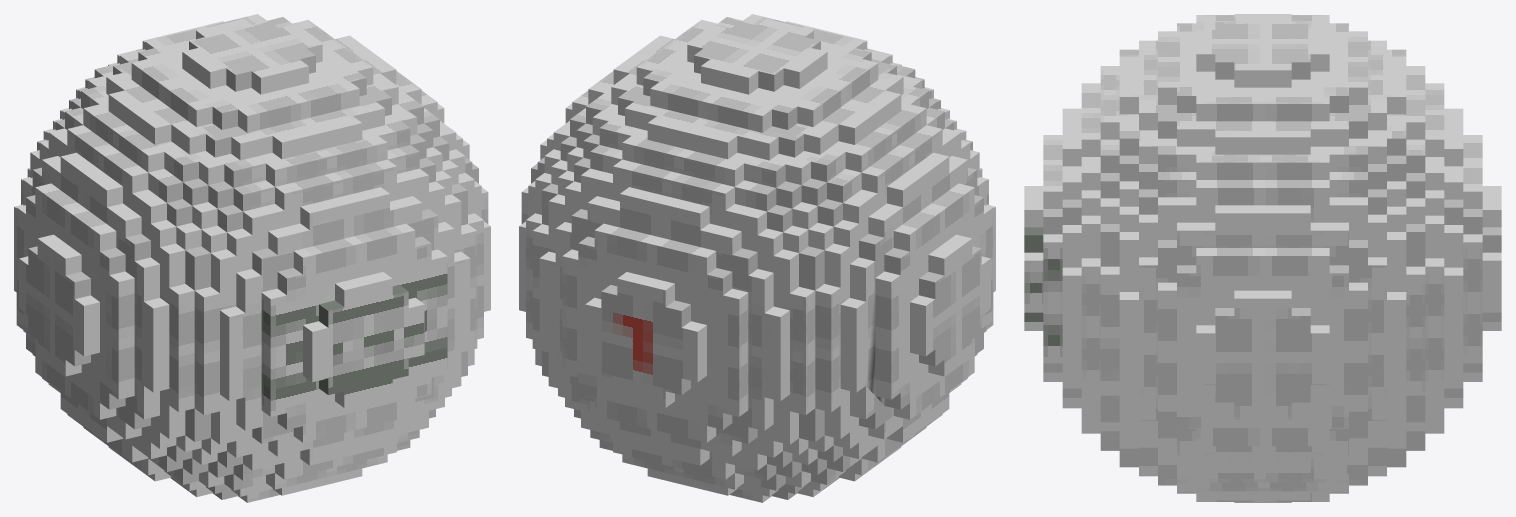
Rendered from golf.glb.
3 views of the same model, side by side, from view 1: azimuth 30°, elevation 25°; view 2: azimuth 150°, elevation 25°; view 3: azimuth 270°, elevation 25° (orthographic). The views are drawn at different scales.
Visible parts, largest first — view 1: GolfBall_A; view 2: GolfBall_A; view 3: GolfBall_A.
Boxes of the visible parts, x1,y1,x2,y2 form: GolfBall_A: (14, 14, 490, 502); GolfBall_A: (519, 14, 995, 502); GolfBall_A: (1024, 14, 1501, 502).
Size of the model in its own units: 2.5 by 2.5 by 2.5.
1 material, 1 textured.
